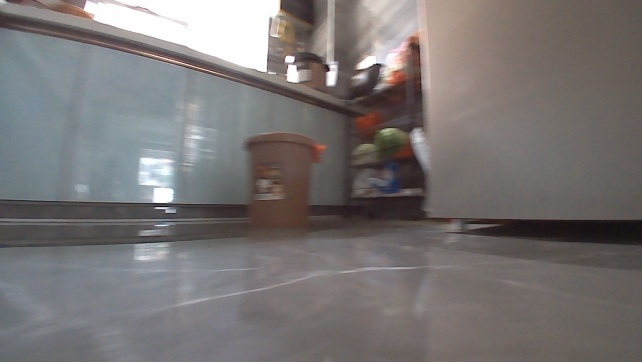cupboard: (0, 0, 354, 225)
